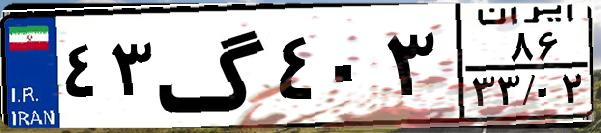0: (330, 28, 385, 110), (535, 70, 560, 125)
2: (560, 70, 590, 125)
3: (385, 28, 445, 110), (110, 28, 156, 98), (470, 70, 495, 125), (495, 70, 520, 125)
4: (270, 28, 330, 110), (57, 26, 110, 100)
6: (537, 27, 568, 80)
8: (508, 27, 537, 80)
گ: (156, 12, 270, 120)
